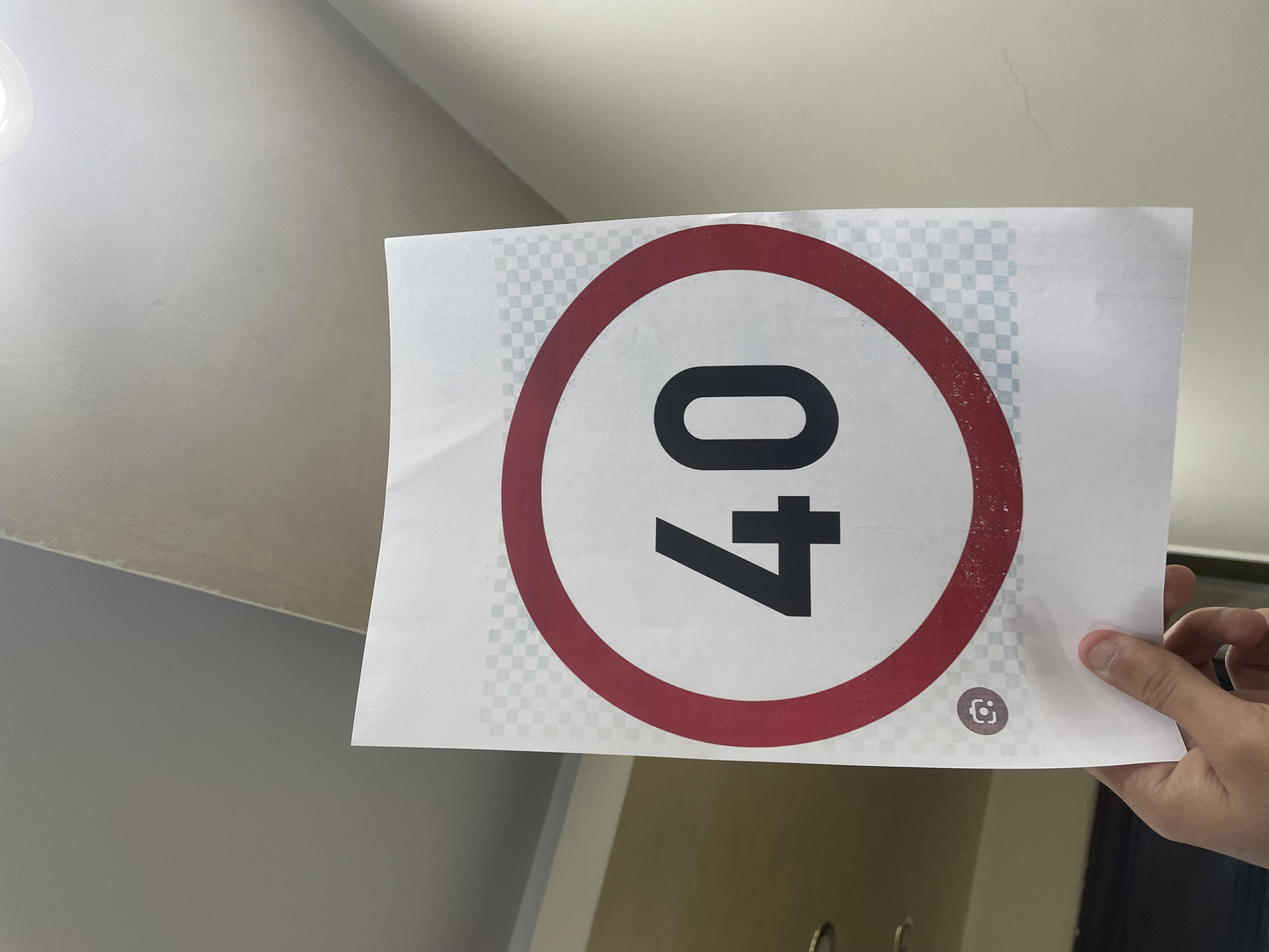40-Speed: (278, 366, 969, 759)
